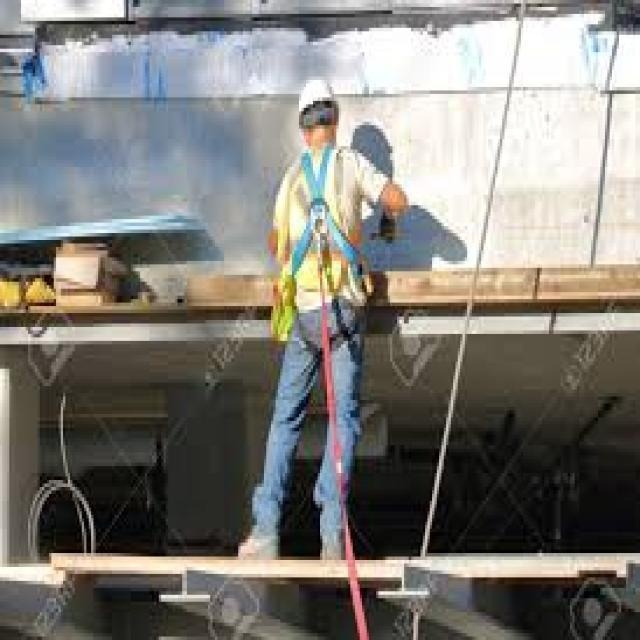Arnes_seguridad: (284, 135, 371, 375)
